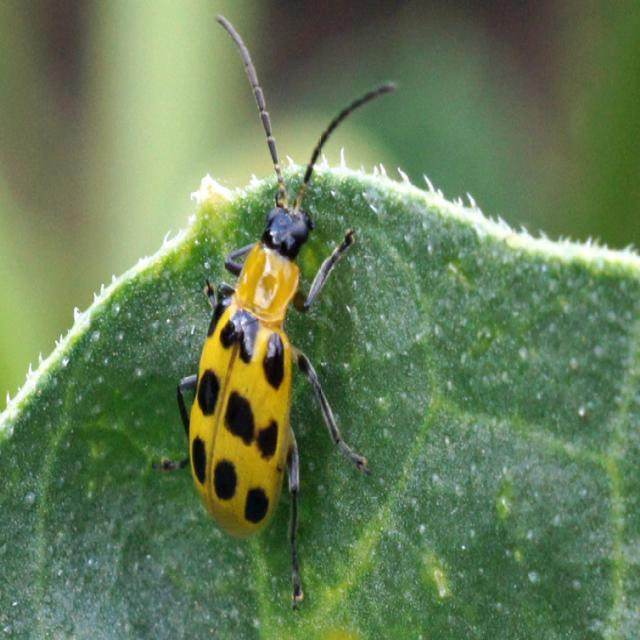cucumber_beetle: (179, 14, 384, 600)
